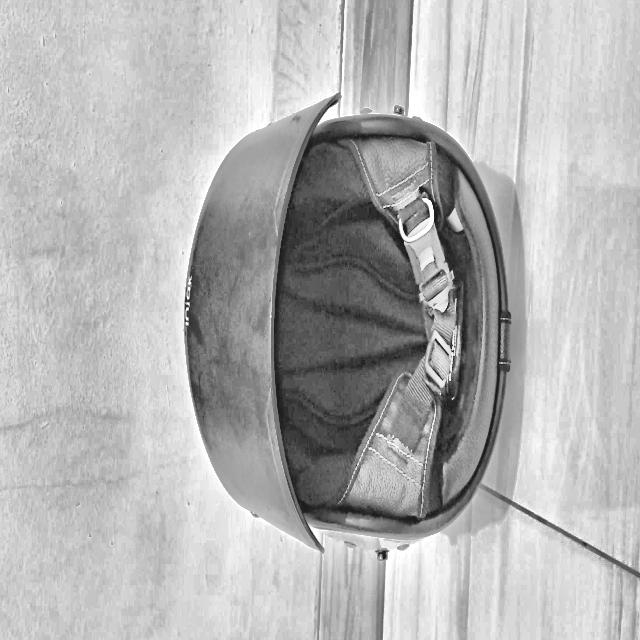Helmet: (41, 320, 315, 640)
